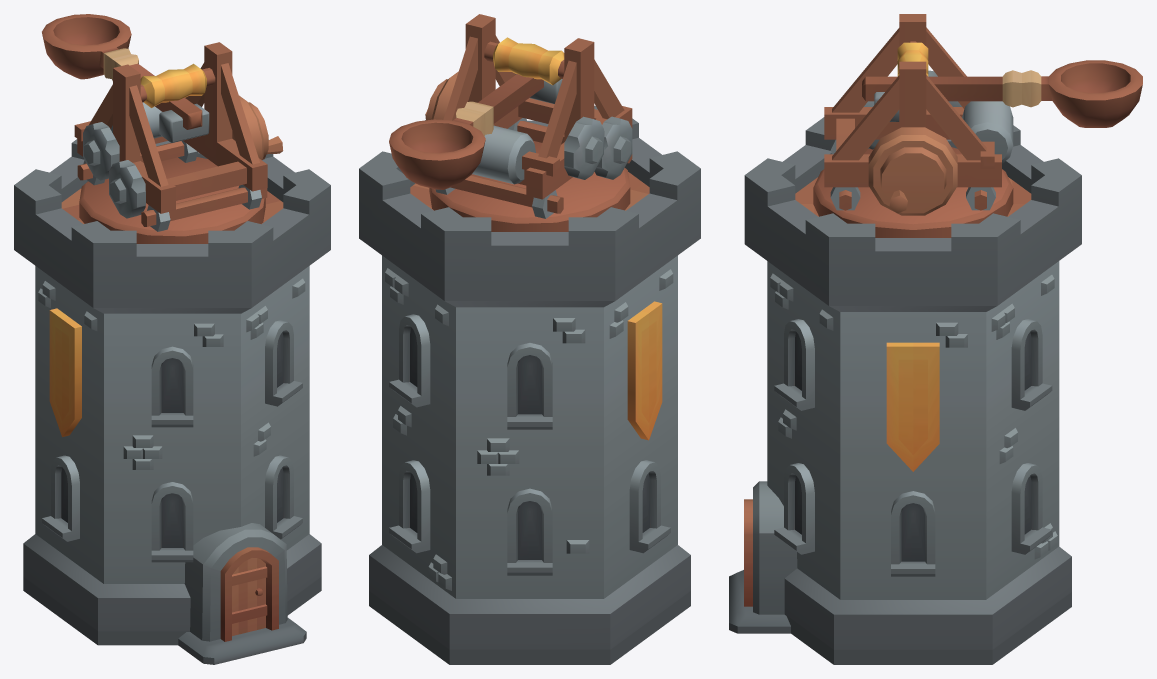
The model's file is kay-torre-catapulta-amarela.gltf.
The picture shows the model from 3 angles, left to right: view 1: azimuth 30°, elevation 25°; view 2: azimuth 150°, elevation 25°; view 3: azimuth 270°, elevation 25°; orthographic projection. The views are drawn at different scales.
Visible parts, largest first — view 1: building_tower_catapult_yellow; view 2: building_tower_catapult_yellow; view 3: building_tower_catapult_yellow.
Part boxes in pixels (x1,y1,x2,y2): building_tower_catapult_yellow: (14, 14, 330, 664); building_tower_catapult_yellow: (359, 14, 700, 664); building_tower_catapult_yellow: (729, 14, 1142, 664).
Size of the model in its own units: 4.65 by 9.82 by 6.52.
Materials: 1 (1 with a texture image).
